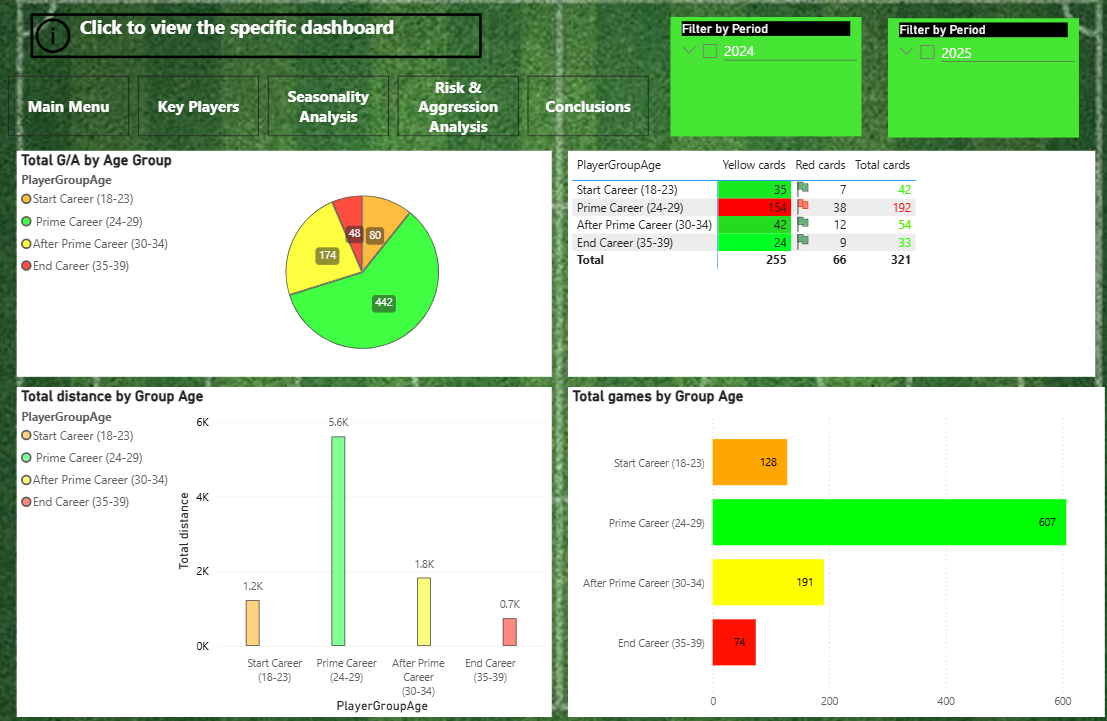

Layout of this report page (visuals, bound fields, positions):
{"tool":"powerbi","page":{"name":"Age Groups & Performance","canvas":[1280,850],"ordinal":3},"visuals":[{"type":"pageNavigator","box":[42.7,96.9,706.4,69.8],"z":0},{"type":"clusteredColumnChart","title":"Total distance by Group Age ","fields":{"Y":["!Measures.Total_distance"],"Category":["Data_football.PlayerGroupAge"],"Series":["Data_football.PlayerGroupAge"]},"box":[27.1,450.1,609.6,376],"z":1000},{"type":"pieChart","title":"Total G/A by Age Group","fields":{"Category":["Data_football.PlayerGroupAge"],"Y":["!Measures.Total_goals_assists"]},"box":[27.1,180.9,609.6,257.8],"z":2000},{"type":"pivotTable","fields":{"Rows":["Data_football.PlayerGroupAge"],"Values":["!Measures.Yellow_Cards_sum","!Measures.sum_redCards","!Measures.Total_cards"]},"box":[655.2,180.9,601,257.8],"z":3000},{"type":"barChart","title":"Total games by Group Age","fields":{"Category":["Data_football.PlayerGroupAge"],"Y":["!Measures.count_game"]},"box":[655.2,450.1,612.4,376],"z":4000},{"type":"slicer","fields":{"Values":["DimDate.Date.Variation.Date Hierarchy.Year","DimDate.Date.Variation.Date Hierarchy.Quarter","DimDate.Date.Variation.Date Hierarchy.Month"]},"box":[772,28.2,217.5,136.1],"z":5000},{"type":"slicer","fields":{"Values":["DimDate.Date.Variation.Date Hierarchy.Year","DimDate.Date.Variation.Date Hierarchy.Quarter","DimDate.Date.Variation.Date Hierarchy.Month"]},"box":[1019.4,29.9,217.5,136.1],"z":6000},{"type":"actionButton","box":[42.7,24.2,514.2,51.3],"z":7000},{"type":"textbox","box":[94,19.9,423,55.5],"z":8000}]}

Visuals, with their boxes in screenshot pixels (x1, y1, x2, y2), scaled from the page's 1280x850 canvas onto the 1107x721 screenshot:
pageNavigator: (x1=37, y1=82, x2=648, y2=141)
"Total distance by Group Age " clusteredColumnChart: (x1=23, y1=382, x2=551, y2=701)
"Total G/A by Age Group" pieChart: (x1=23, y1=153, x2=551, y2=372)
pivotTable - Data_football.PlayerGroupAge x !Measures.Yellow_Cards_sum: (x1=567, y1=153, x2=1086, y2=372)
"Total games by Group Age" barChart: (x1=567, y1=382, x2=1096, y2=701)
slicer - DimDate.Date.Variation.Date Hierarchy.Year x DimDate.Date.Variation.Date Hierarchy.Quarter: (x1=668, y1=24, x2=856, y2=139)
slicer - DimDate.Date.Variation.Date Hierarchy.Year x DimDate.Date.Variation.Date Hierarchy.Quarter: (x1=882, y1=25, x2=1070, y2=141)
actionButton: (x1=37, y1=21, x2=482, y2=64)
textbox: (x1=81, y1=17, x2=447, y2=64)
